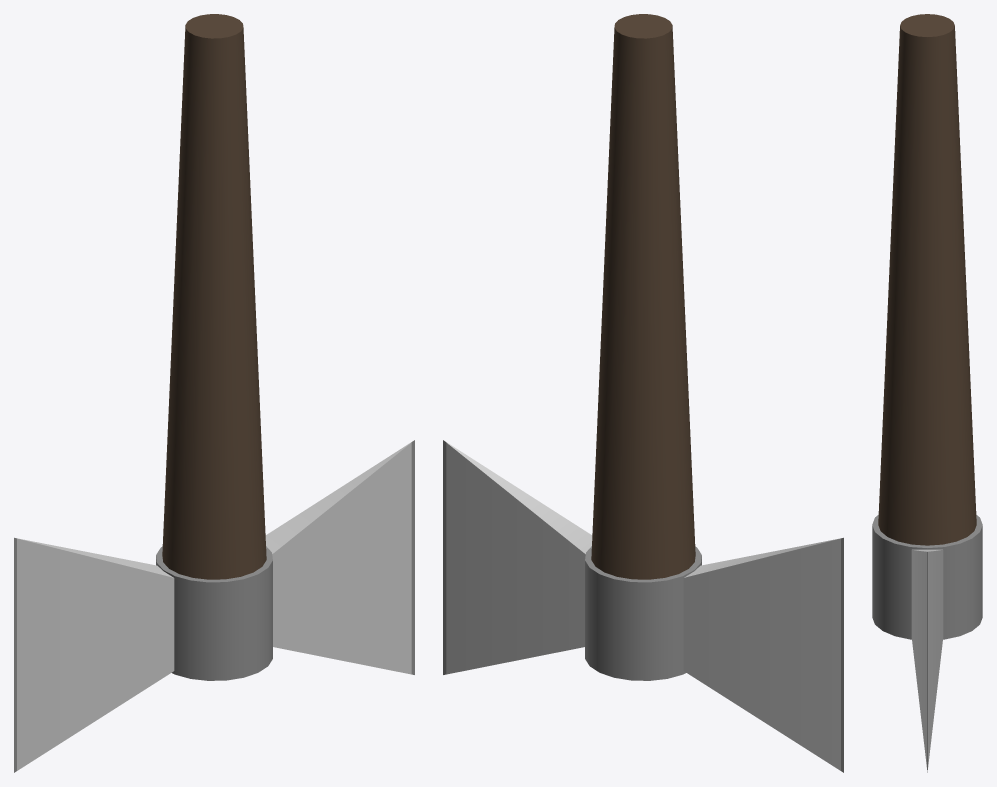
Rendered from Axe-lee.fbx.
The picture shows the model from 3 angles, left to right: view 1: azimuth 30°, elevation 25°; view 2: azimuth 150°, elevation 25°; view 3: azimuth 270°, elevation 25°; orthographic projection. The views are drawn at different scales.
Visible parts, largest first — view 1: pCube1, pCylinder1, pCylinder2; view 2: pCube1, pCylinder1, pCylinder2; view 3: pCylinder1, pCylinder2, pCube1.
Part boxes in pixels (x1,y1,x2,y2): pCube1: [14, 440, 414, 772]; pCylinder1: [162, 14, 266, 579]; pCylinder2: [156, 546, 272, 680]; pCube1: [443, 440, 843, 772]; pCylinder1: [591, 14, 695, 579]; pCylinder2: [585, 546, 701, 680]; pCylinder1: [878, 14, 976, 545]; pCylinder2: [872, 515, 982, 639]; pCube1: [911, 549, 943, 772].
Size of the model in its own units: 13.18 by 21.94 by 3.35.
